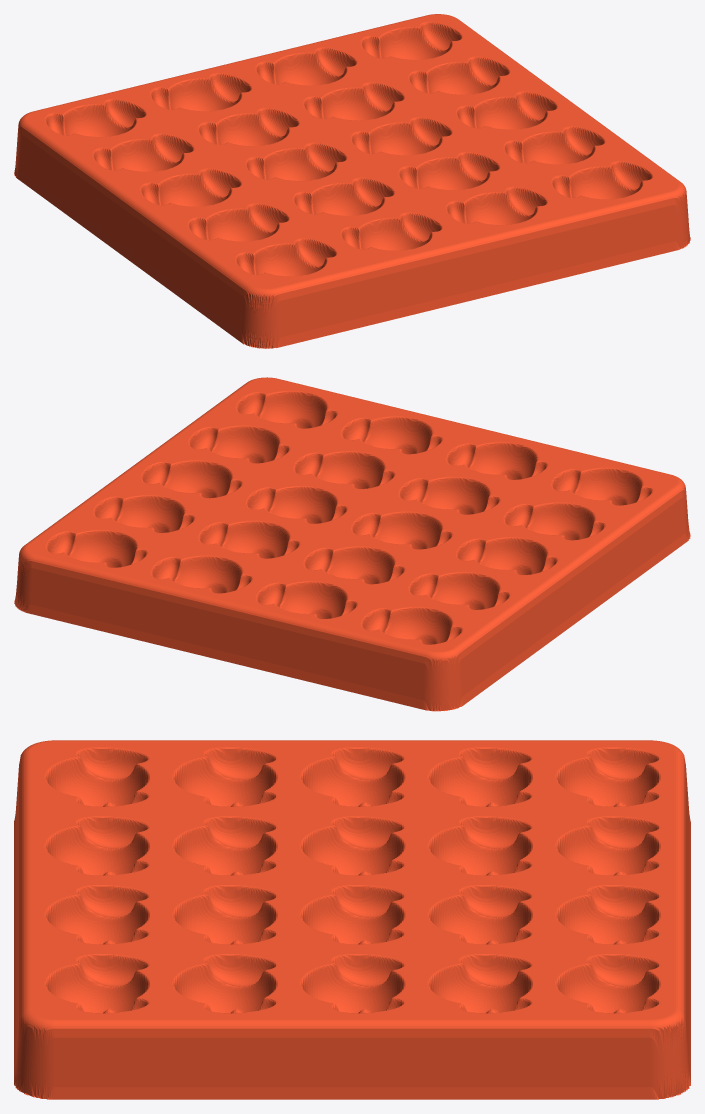
The model's file is mold.glb.
The picture shows the model from 3 angles, top to bottom: view 1: azimuth 30°, elevation 25°; view 2: azimuth 150°, elevation 25°; view 3: azimuth 270°, elevation 25°; orthographic projection. The views are drawn at different scales.
Visible parts, largest first — view 1: geometry_0; view 2: geometry_0; view 3: geometry_0.
Boxes of the visible parts, x1=… form: geometry_0: x1=14, y1=14, x2=690, y2=348; geometry_0: x1=14, y1=377, x2=690, y2=711; geometry_0: x1=14, y1=740, x2=690, y2=1099.
Size of the model in its own units: 0.1555 by 0.0182 by 0.1524.
